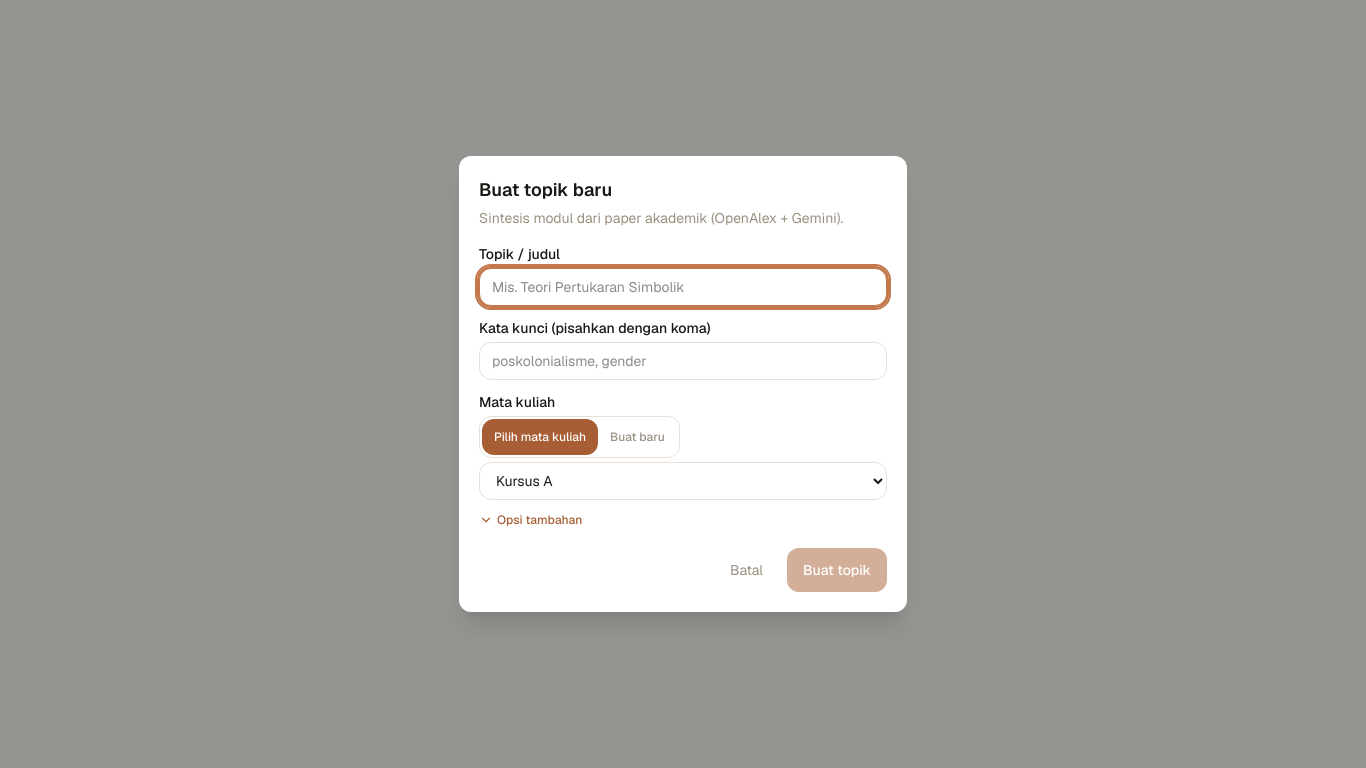
Test: Composer › does not ask for a jurusan when the picked course already has one
The width and height of the screenshot is (1366, 768).
Expected: the field labelled "Jurusan" is not shown
Click the button "Buat baru". click: (638, 437)
box: 598,419 -> 677,455
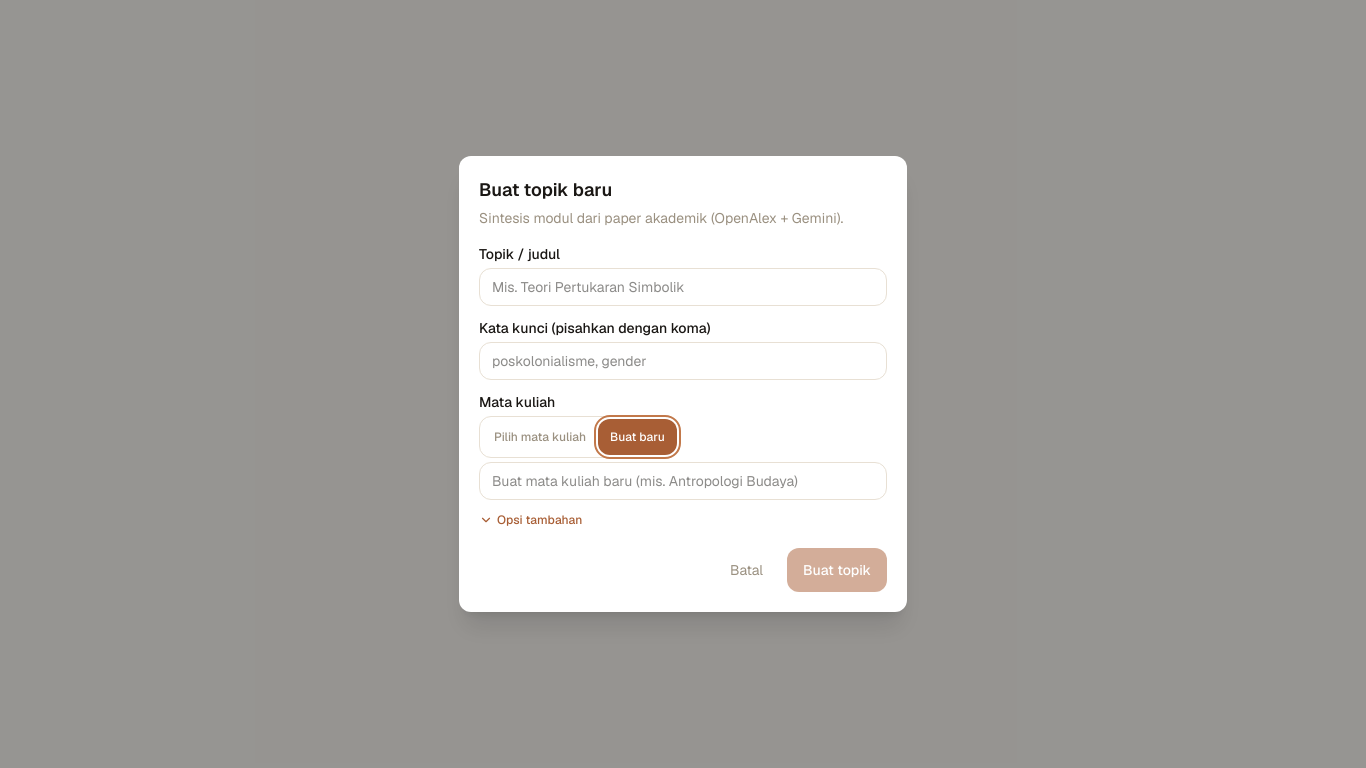
Type "Kursus Baru" into the field with placeholder "Buat mata kuliah baru (mis. Antropologi Budaya)". click: (683, 481)
box: 479,462 -> 887,500
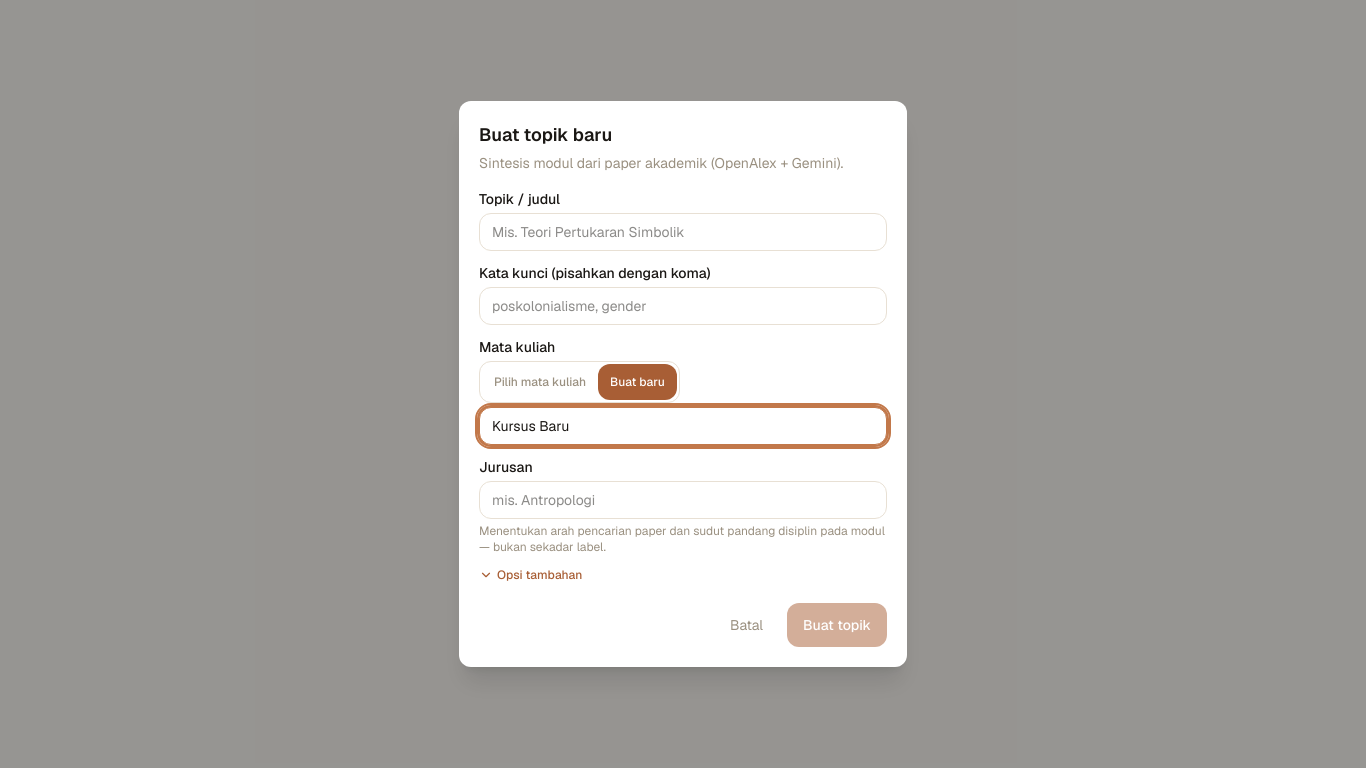
Expected: the field labelled "Jurusan" is shown, 479,481 -> 887,519
